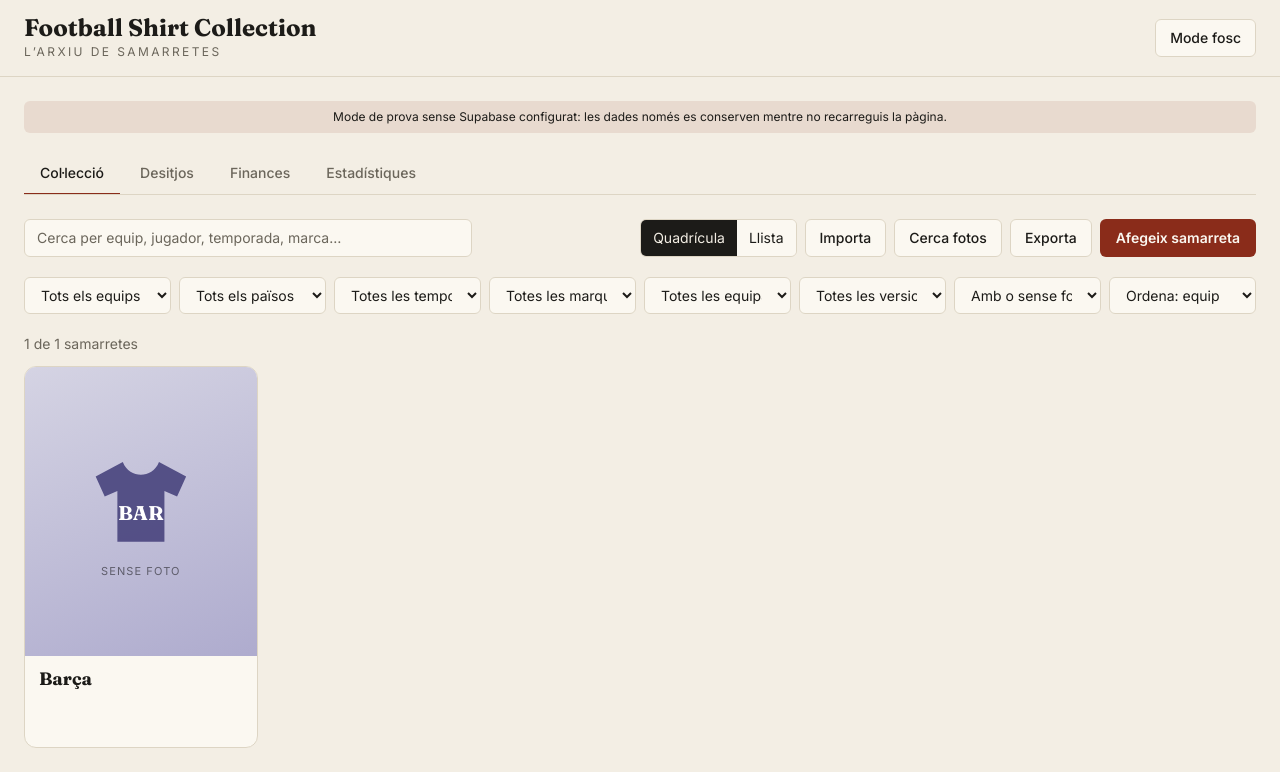
it: Exportació (interfície) › mostra el nombre de samarretes i els tres formats
Step 1. Click the button "Exporta" → (1051, 238), box [1010,219,1092,257]
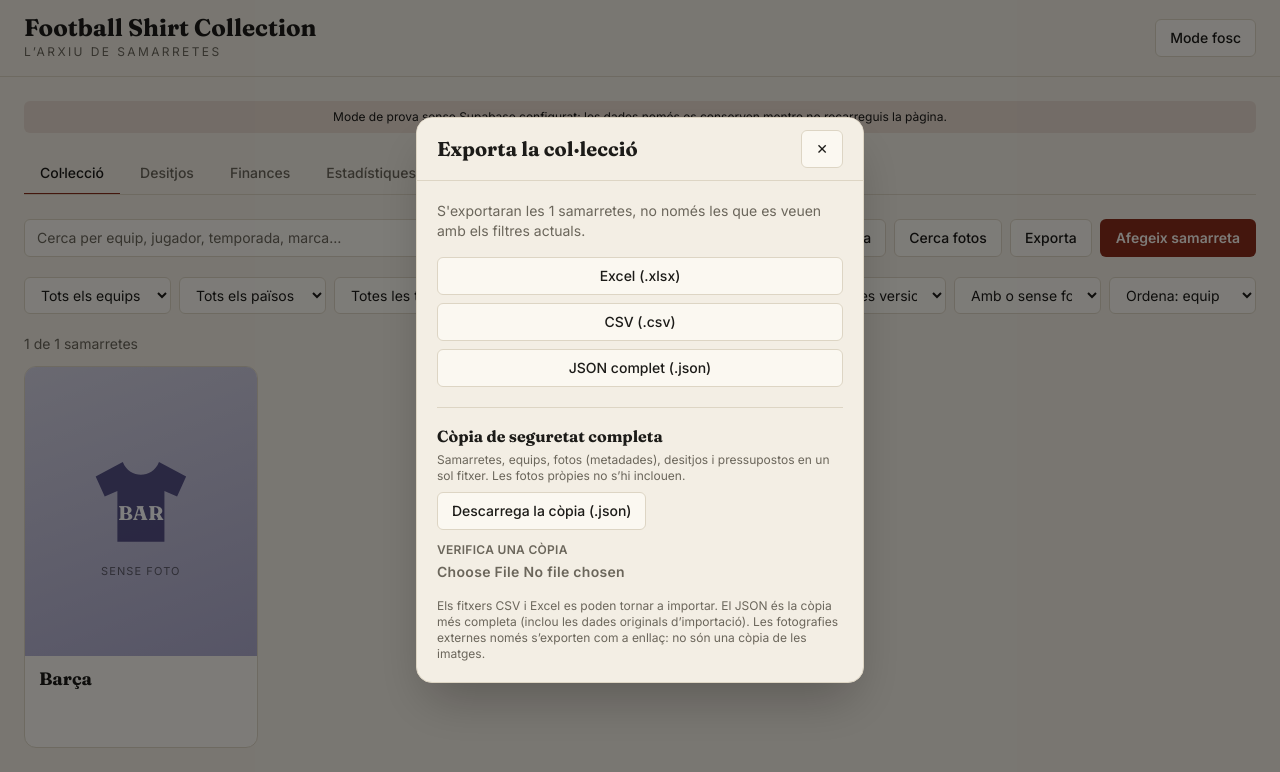
Check: the text "1 samarretes" is shown, box [437,202,821,239]
Check: the button "Excel (.xlsx)" is enabled, box [437,257,843,295]
Check: the button "CSV (.csv)" is enabled, box [437,303,843,341]
